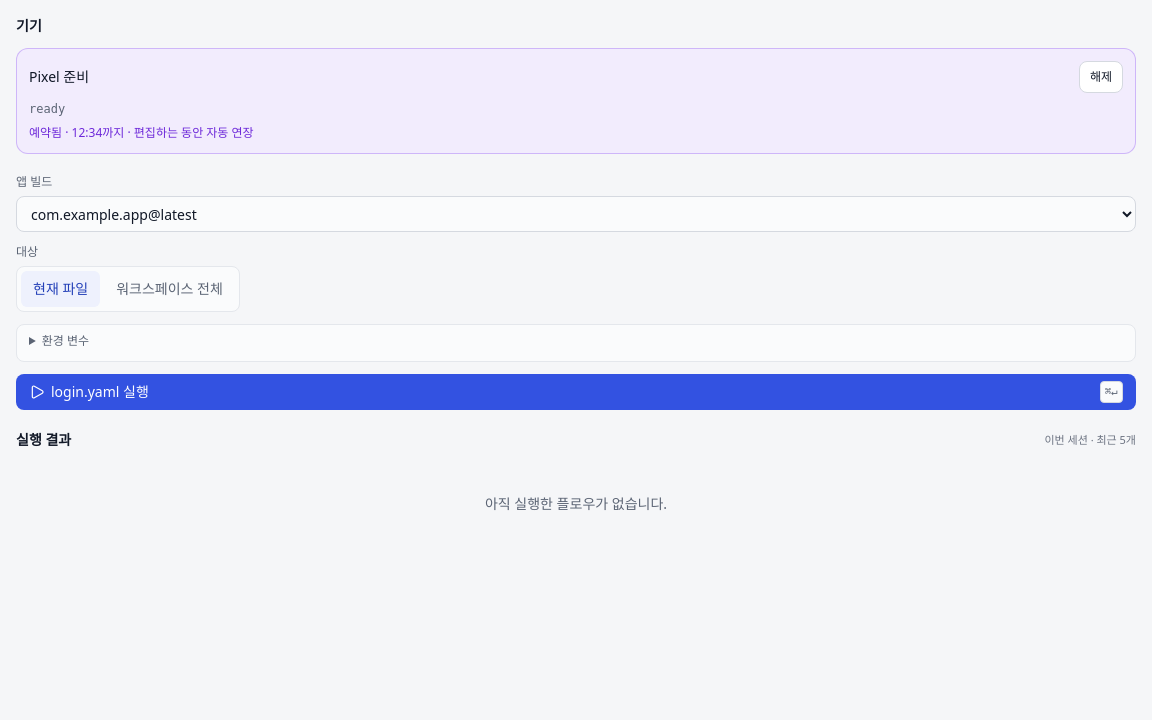
Test: the editor shortcut works before an input consumes the event and suppresses duplicate pending requests
Later steps or results of the test are not shown.
Click the heading "환경 변수" at (65, 340), box [42, 332, 89, 349]
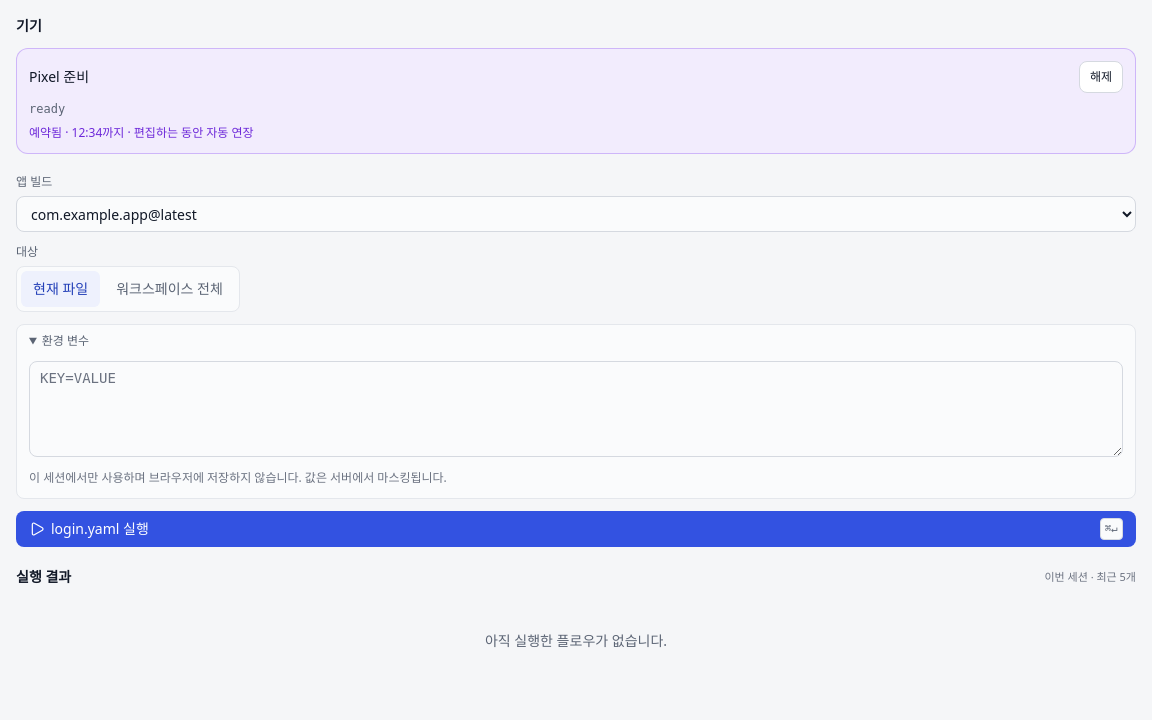
Press Enter in the text box named "환경 변수", box [29, 361, 1123, 457]
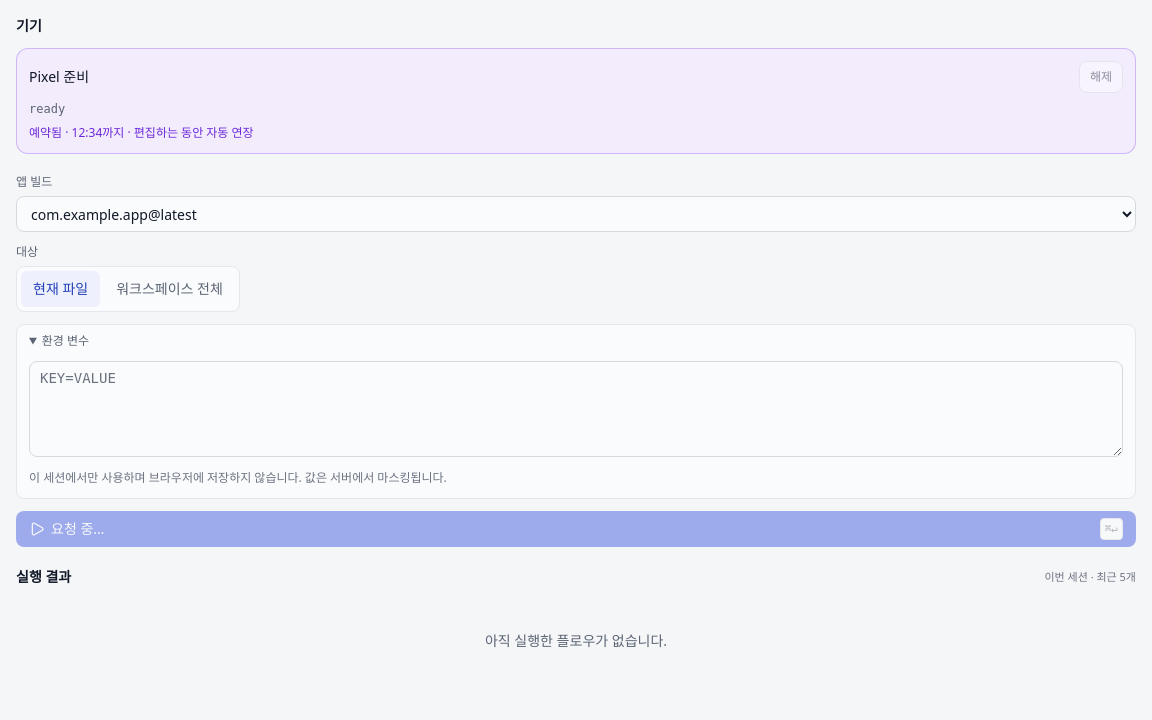
Press Enter in the text box named "환경 변수", box [29, 361, 1123, 457]
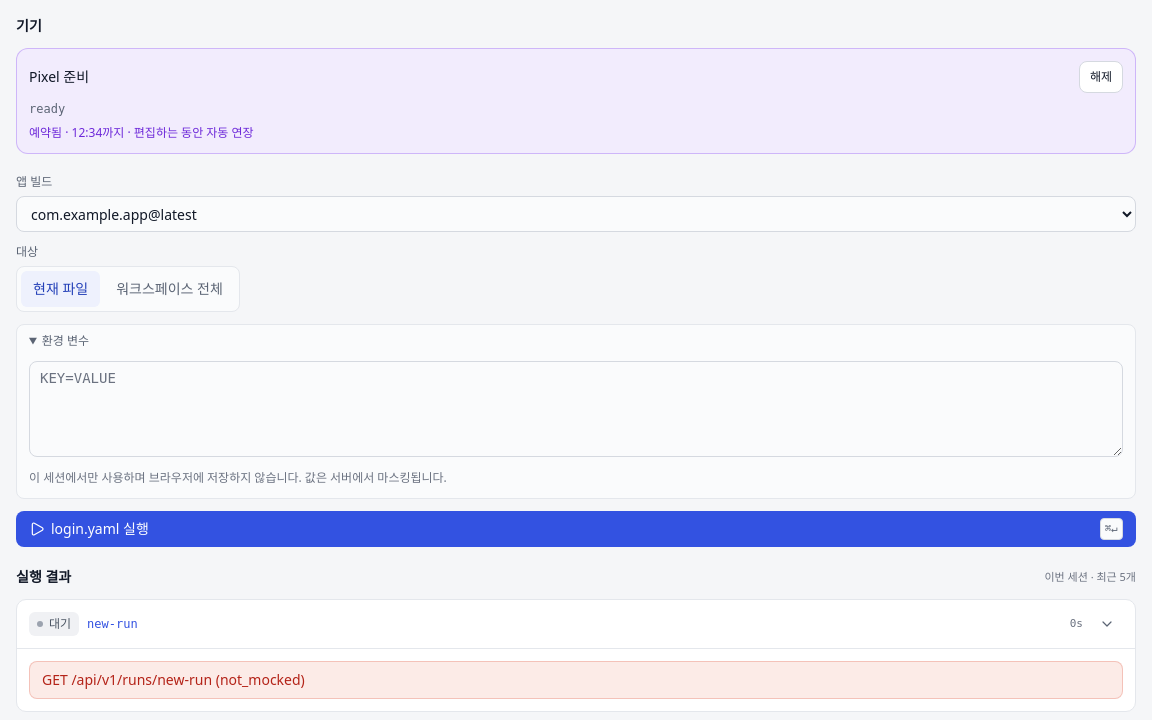
Expected: the button "login.yaml 실행 ⌘↵" is enabled, [16, 511, 1136, 547]
